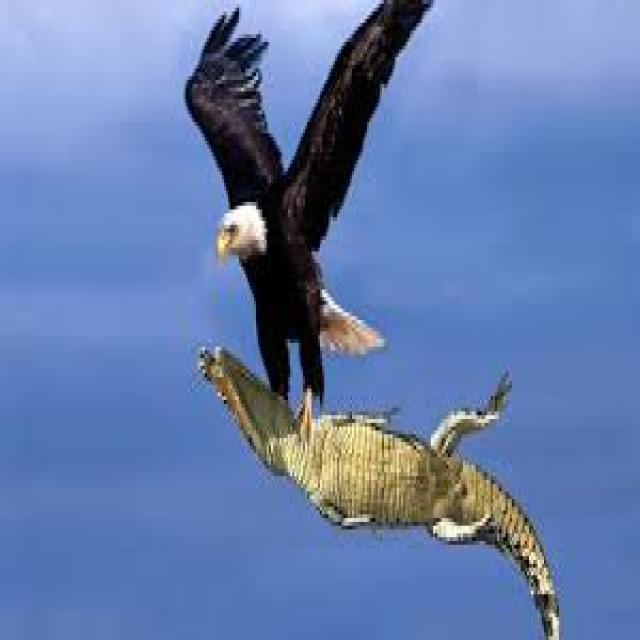Eagle: (184, 1, 410, 396)
